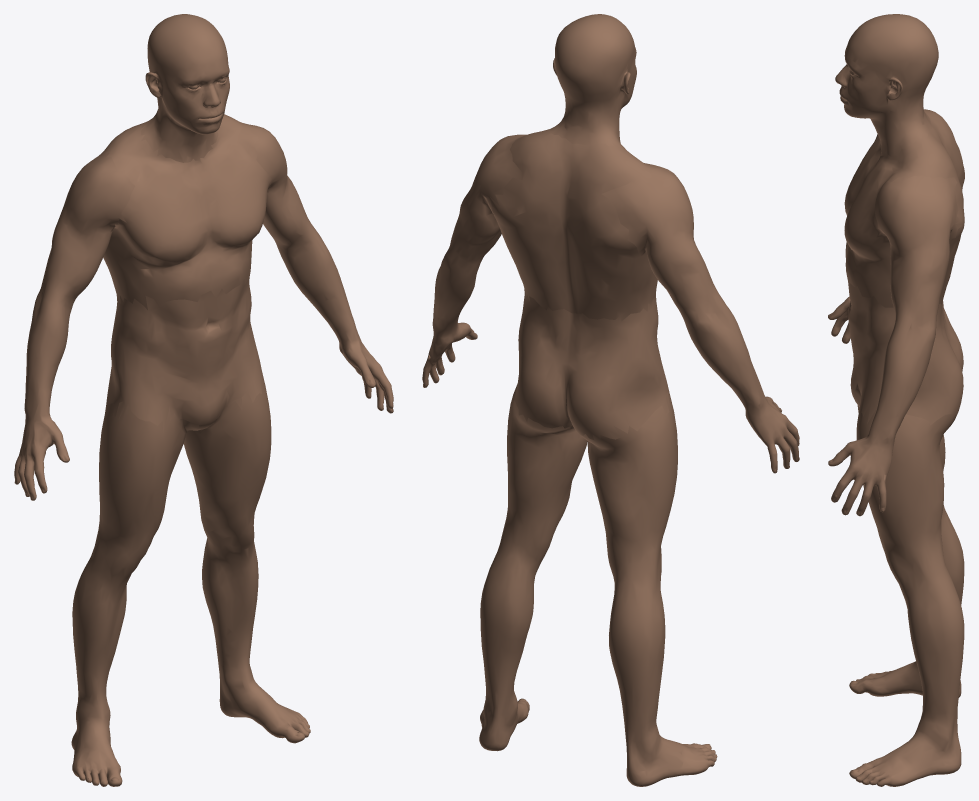
The model's file is cuerpo_hombre.glb.
The picture shows the model from 3 angles, left to right: view 1: azimuth 30°, elevation 25°; view 2: azimuth 150°, elevation 25°; view 3: azimuth 270°, elevation 25°; orthographic projection.
Visible parts, largest first — view 1: Piernas, Torax, Abdomen, BrazoDerecho, Cabeza, BrazoIzquierdo; view 2: Piernas, Torax, Abdomen, BrazoDerecho, Cabeza, BrazoIzquierdo; view 3: Piernas, BrazoIzquierdo, Cabeza, Torax, Abdomen, BrazoDerecho.
Boxes of the visible parts, bbox=[...] form: Piernas: bbox=[71, 373, 310, 786]; Torax: bbox=[103, 114, 271, 309]; Abdomen: bbox=[106, 273, 266, 432]; BrazoDerecho: bbox=[14, 150, 135, 500]; Cabeza: bbox=[141, 14, 229, 162]; BrazoIzquierdo: bbox=[243, 123, 393, 413]; Piernas: bbox=[479, 384, 717, 786]; Torax: bbox=[490, 128, 663, 321]; Abdomen: bbox=[514, 289, 671, 439]; BrazoDerecho: bbox=[602, 168, 799, 473]; Cabeza: bbox=[550, 14, 636, 149]; BrazoIzquierdo: bbox=[422, 134, 524, 387]; Piernas: bbox=[849, 400, 964, 786]; BrazoIzquierdo: bbox=[828, 175, 961, 516]; Cabeza: bbox=[835, 14, 938, 156]; Torax: bbox=[844, 109, 964, 307]; Abdomen: bbox=[848, 282, 963, 425]; BrazoDerecho: bbox=[828, 134, 877, 343].
Size of the model in its own units: 0.9149 by 1.75 by 0.3019.
